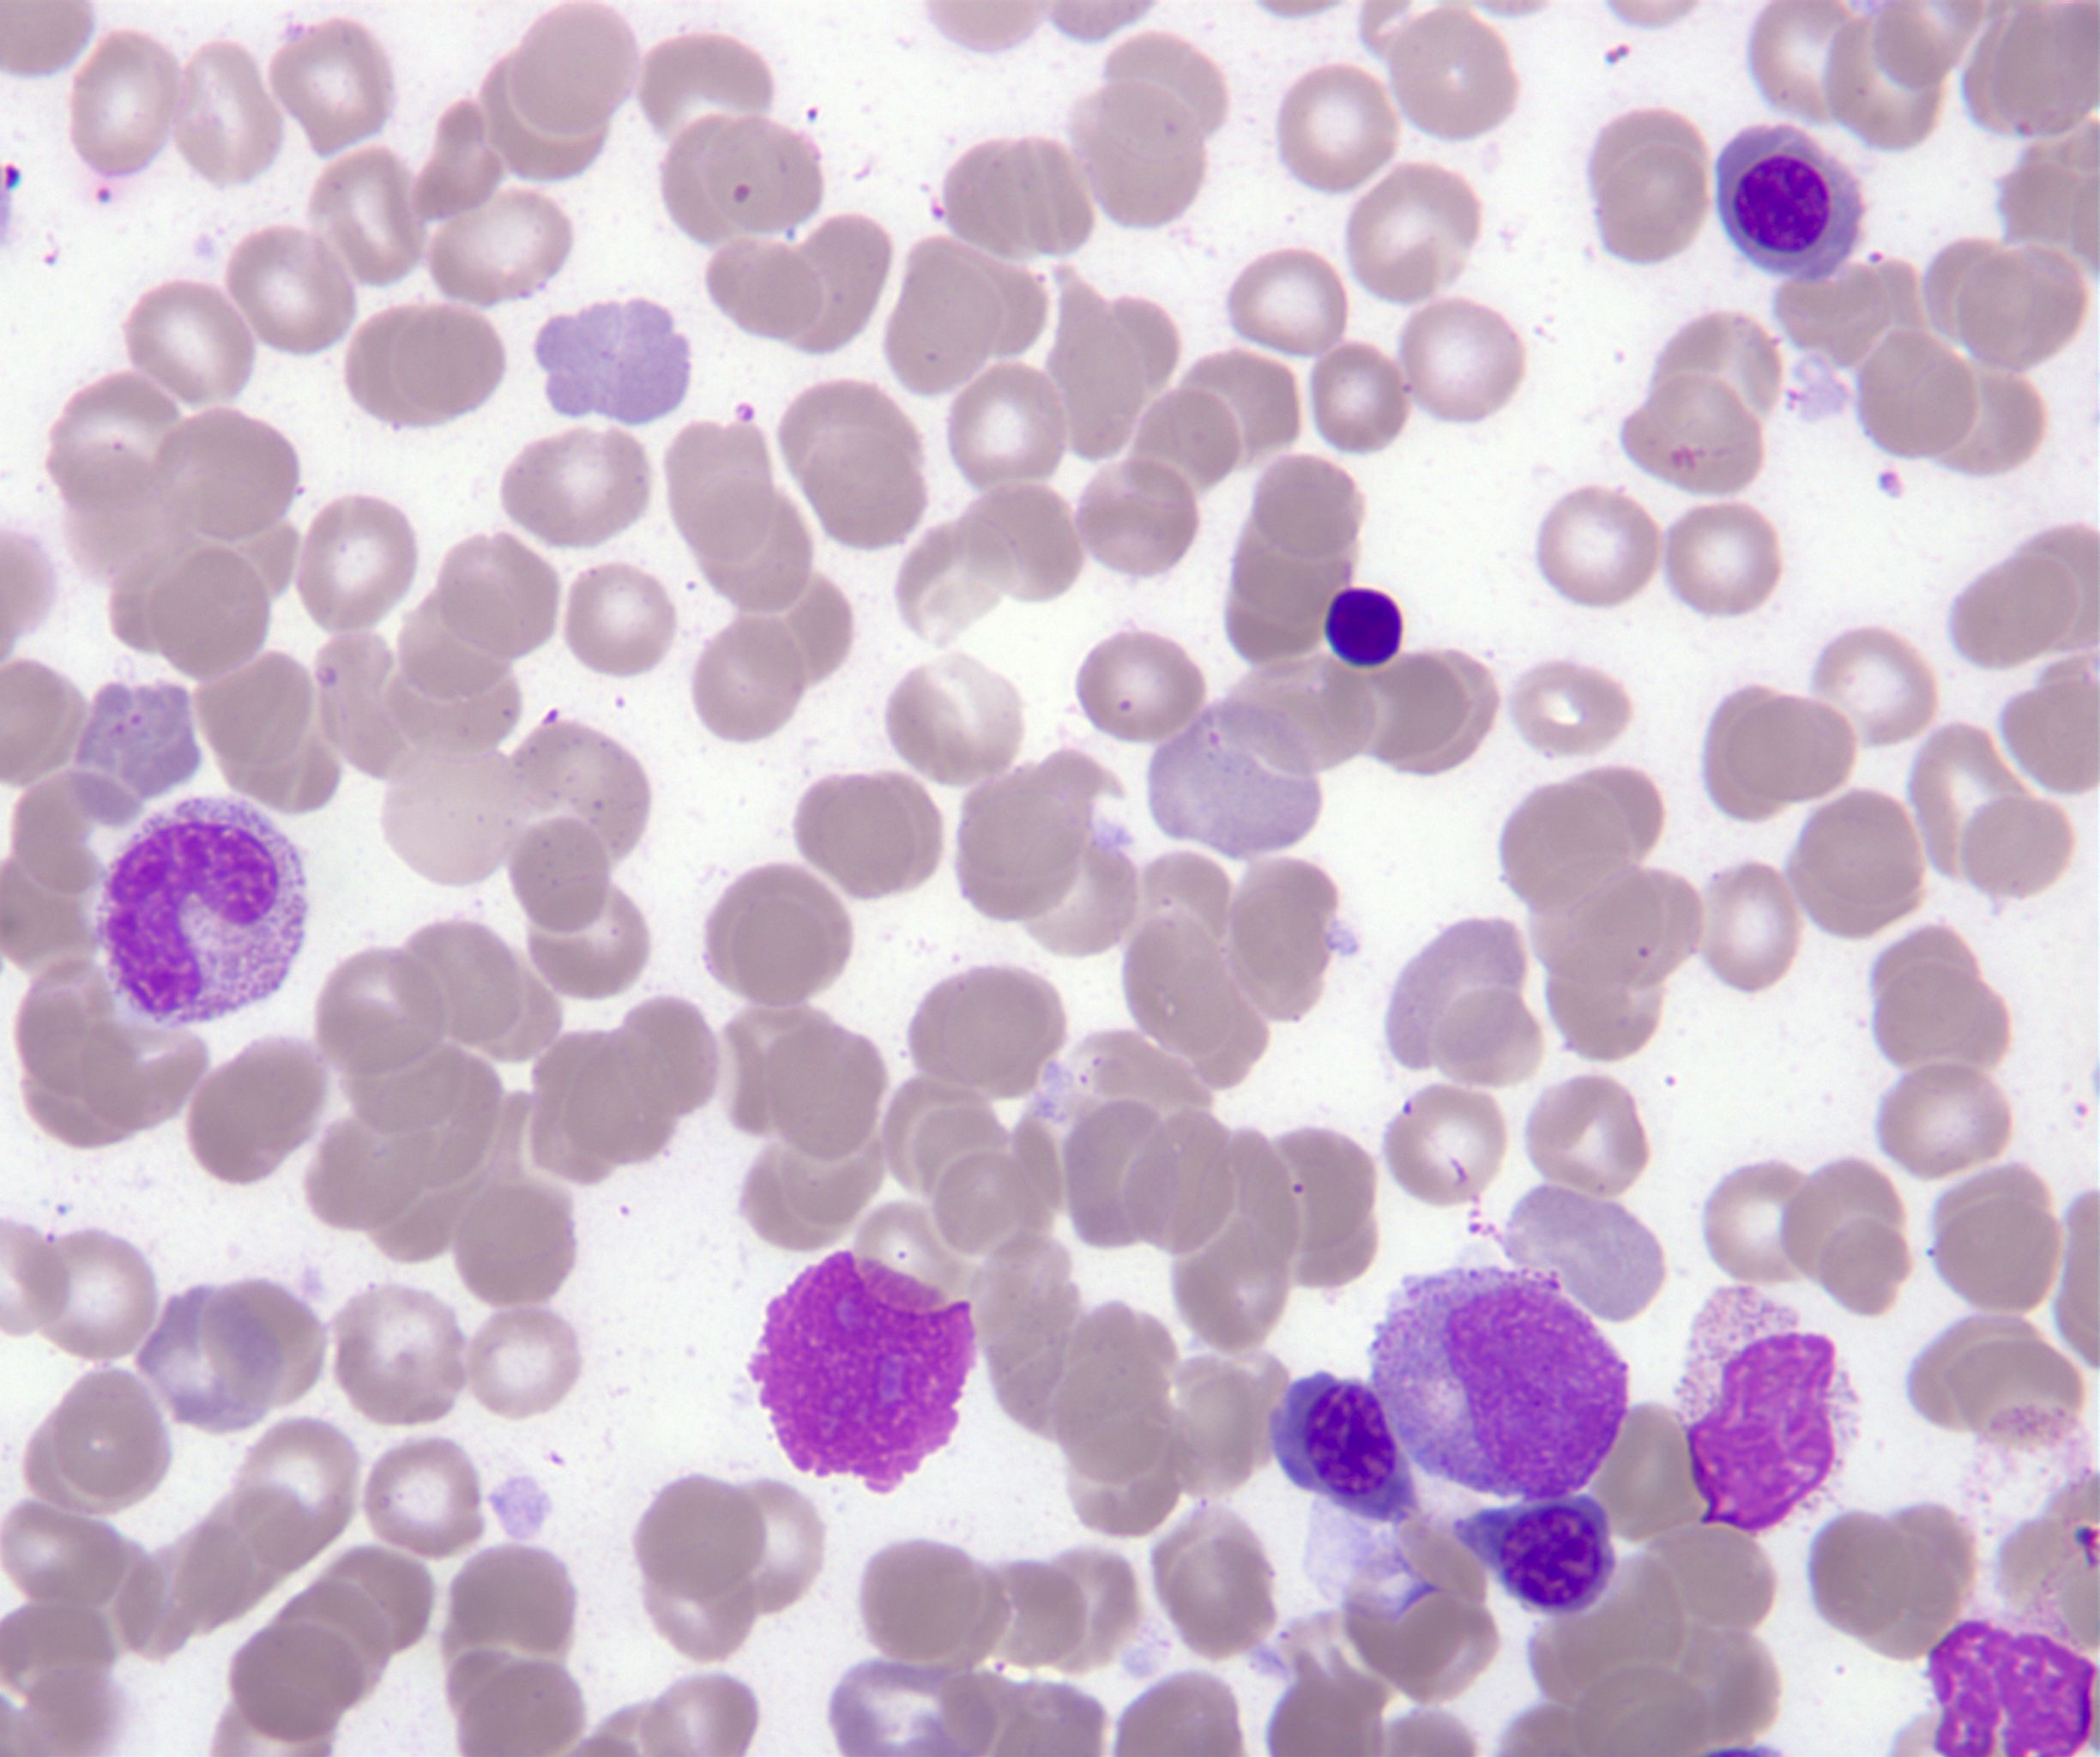23: (1268, 1371, 1418, 1525), (1455, 1497, 1617, 1612)
24: (1716, 122, 1865, 277)
3: (1371, 1268, 1624, 1499)
4: (1676, 1284, 1854, 1532)
5: (96, 799, 307, 1022)
x: (748, 1249, 973, 1494), (1927, 1617, 2100, 1757), (1324, 586, 1402, 668)
